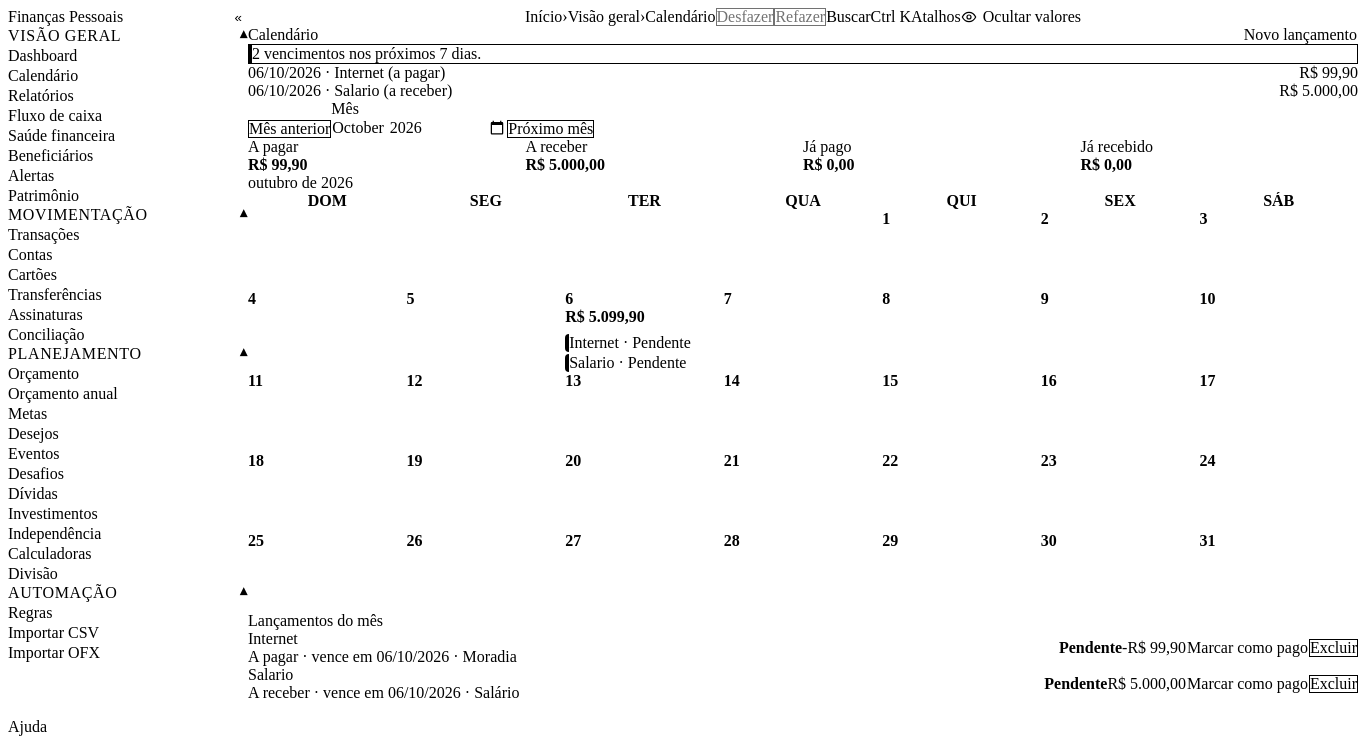
Test: calendário: tela › critérios 7, 8 e 10: marca como pago pela tela, mostra Pago e reabre
The width and height of the screenshot is (1366, 739).
Click the button with aria-label "Marcar como pago: Internet": (1248, 648) [1186,639,1309,657]
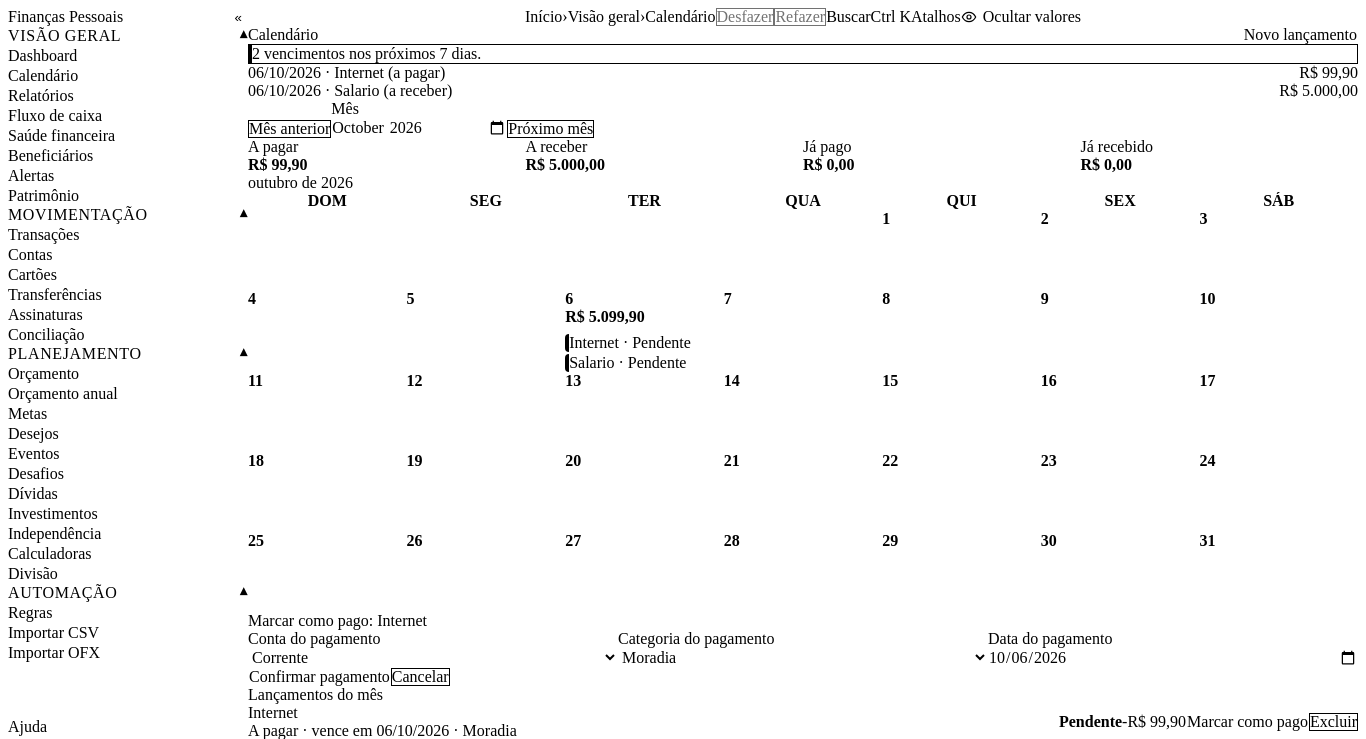
Select "Lazer" in the dropdown labelled "Categoria do pagamento": (803, 658) [618,648,988,667]
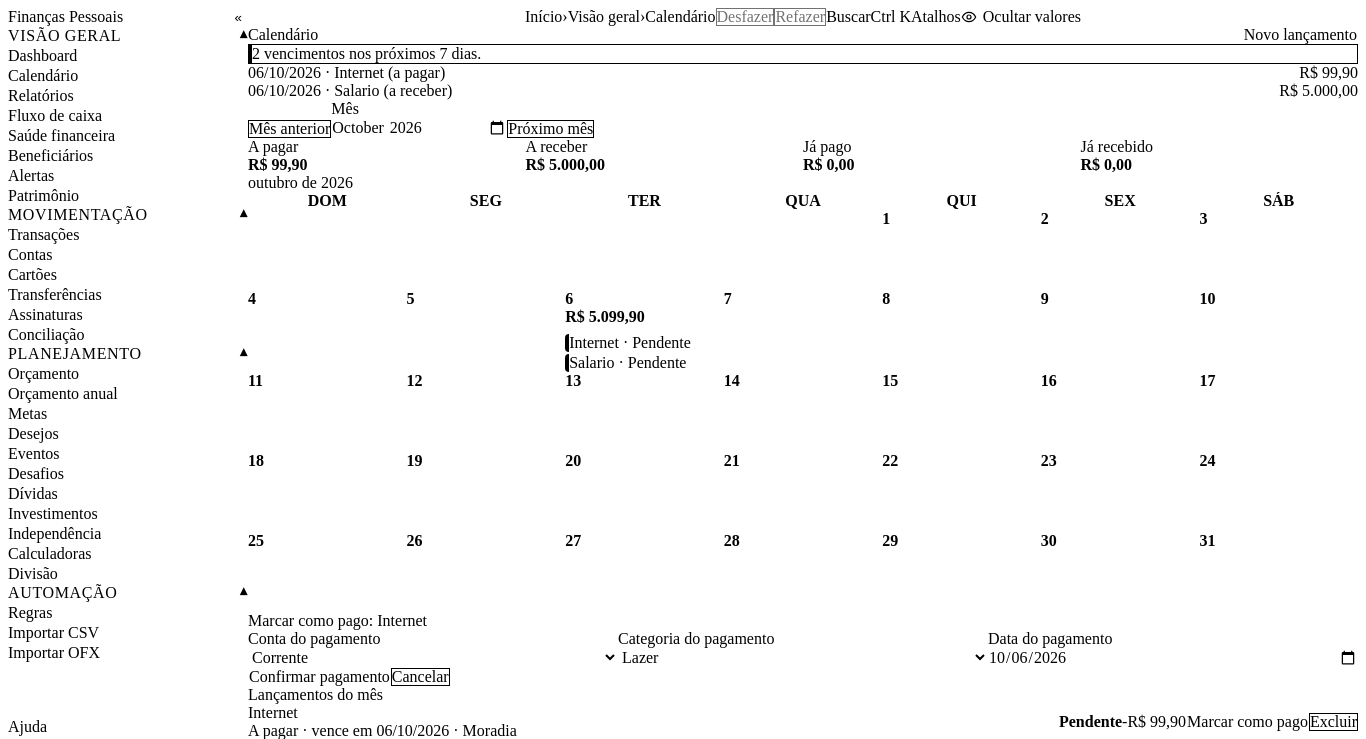
Click the button "Confirmar pagamento": (319, 677) [248,668,391,686]
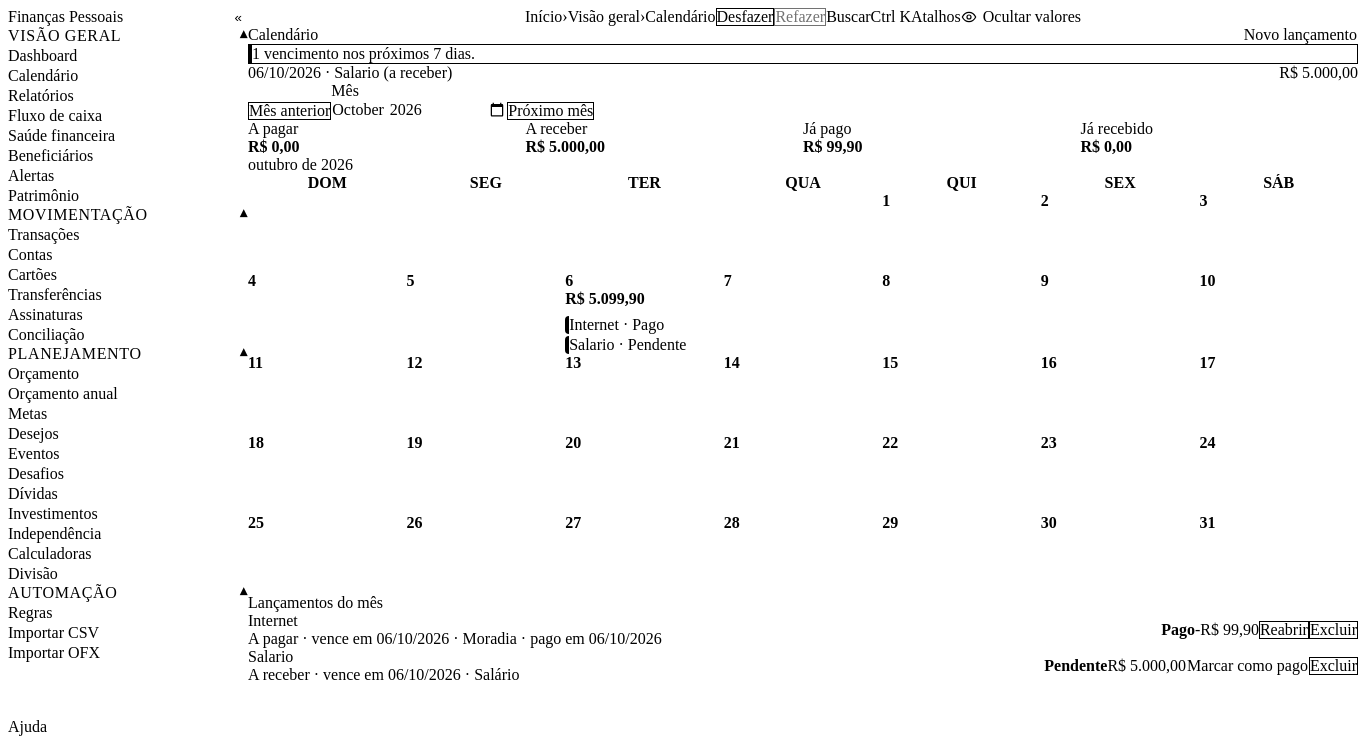
Now the text "Pago" is shown, box [1161,621,1195,639]
Now the heading "Marcar como pago: Internet" is gone
Now the text with test id "total-ja-pago" reads "R$ 99,90", box [803,138,863,155]
Click the button with aria-label "Reabrir Internet": (1284, 630) [1259,621,1309,639]
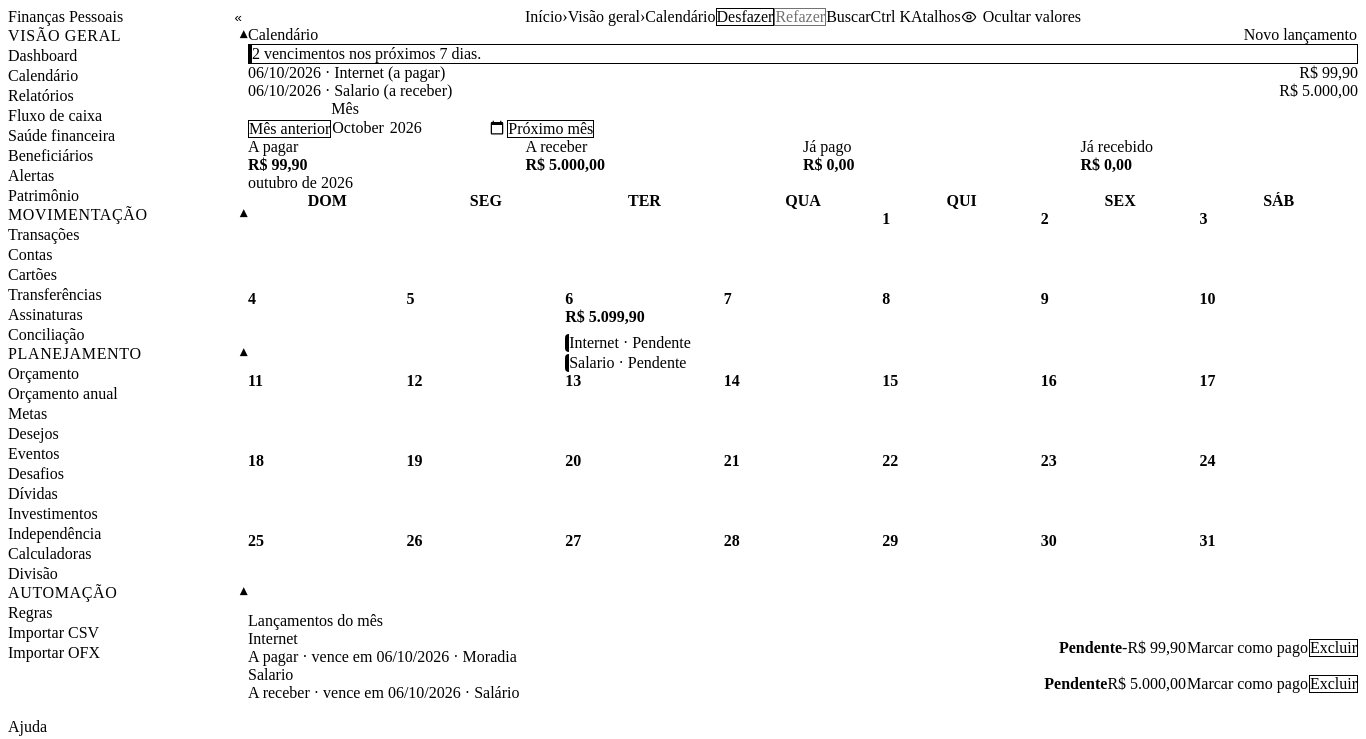
Now the button with aria-label "Marcar como pago: Internet" is shown, box [1186,639,1309,657]
